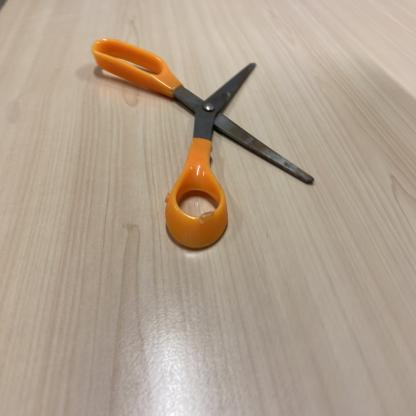scissors: (90, 42, 315, 255)
